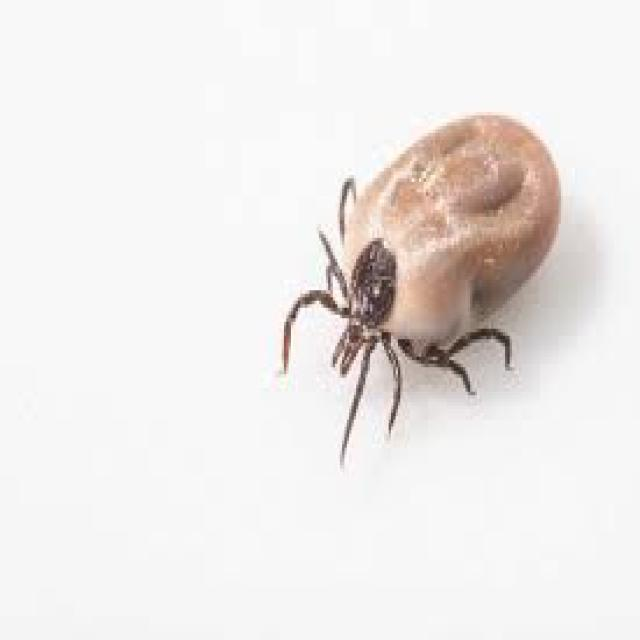kene: (247, 85, 585, 521)
